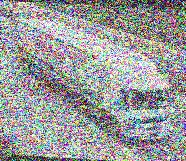truck: (6, 17, 183, 148)
